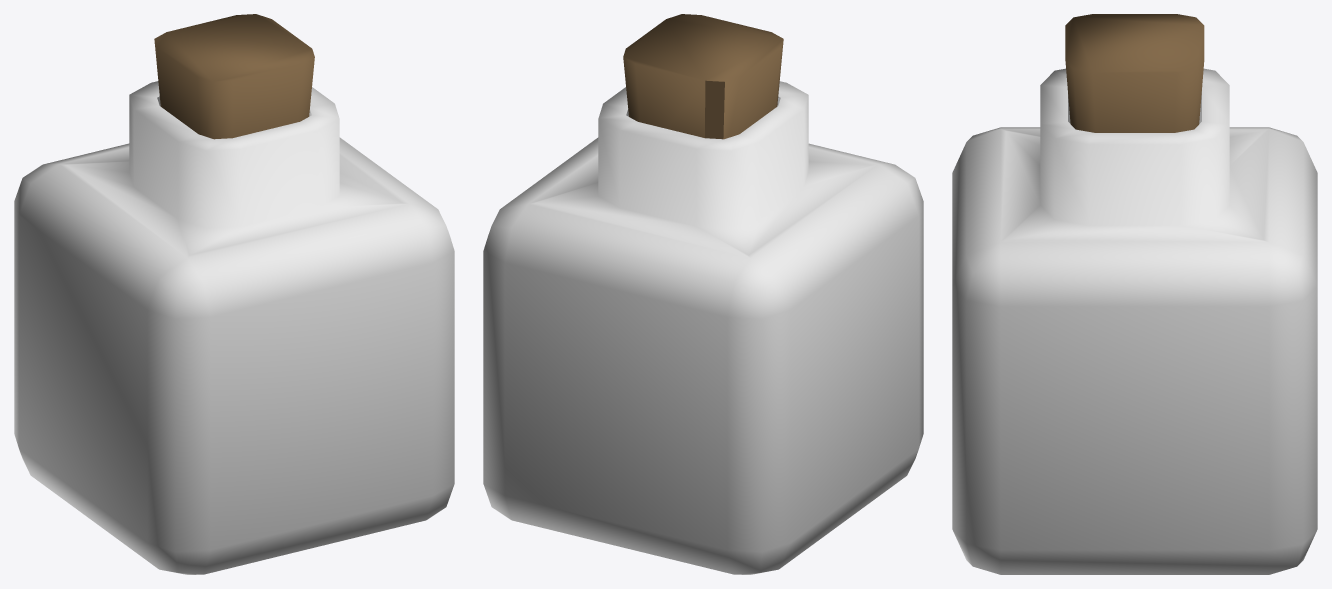
File: health-potion.glb
The picture shows the model from 3 angles, left to right: view 1: azimuth 30°, elevation 25°; view 2: azimuth 150°, elevation 25°; view 3: azimuth 270°, elevation 25°; orthographic projection. The views are drawn at different scales.
Visible parts, largest first — view 1: Health Potion; view 2: Health Potion; view 3: Health Potion.
Part boxes in pixels (x1=…): Health Potion: x1=14, y1=14, x2=454, y2=574; Health Potion: x1=483, y1=14, x2=923, y2=574; Health Potion: x1=952, y1=14, x2=1317, y2=574.
Bounding box in the file's own units: 2 × 2.86 × 2.
